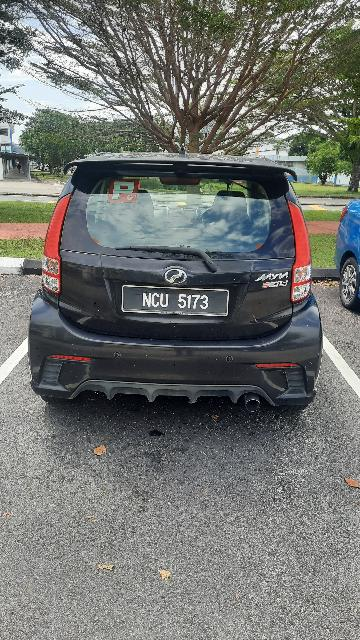License_Plate: (116, 282, 233, 324)
car: (25, 144, 329, 417)
